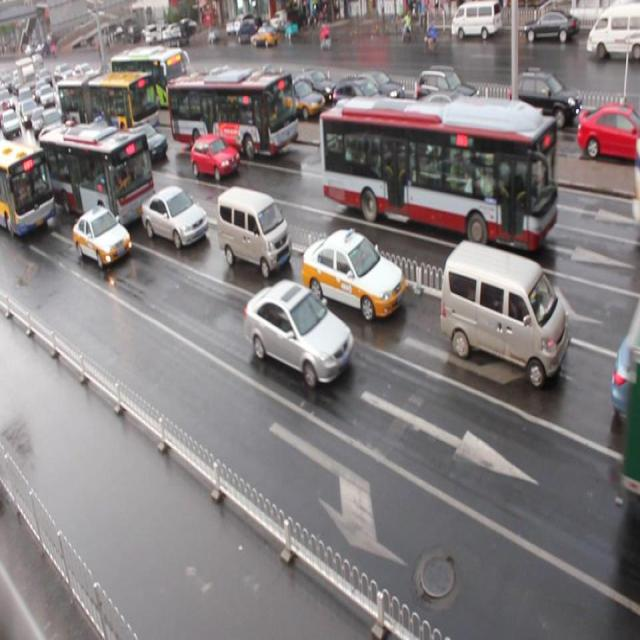car: (245, 278, 354, 389), (300, 228, 404, 321), (141, 185, 208, 250), (72, 205, 132, 269), (190, 133, 240, 181), (125, 121, 168, 163)
truck: (440, 240, 568, 386), (216, 186, 292, 276)
van: (318, 95, 555, 251), (38, 121, 156, 232), (167, 70, 298, 156), (58, 73, 158, 131), (1, 139, 56, 236)
